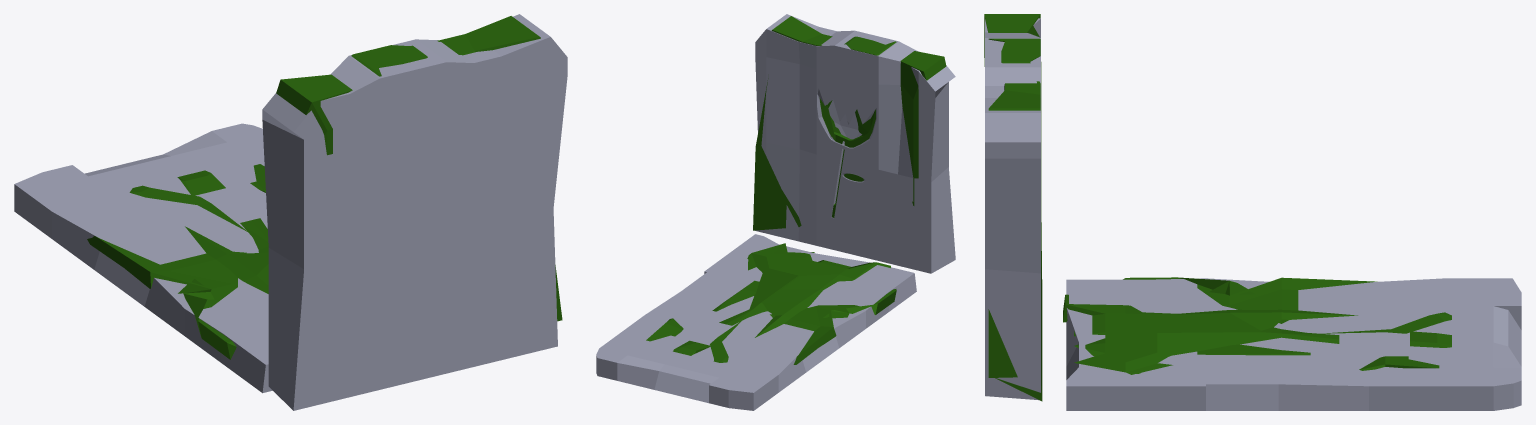
File: flower_grave.glb
The picture shows the model from 3 angles, left to right: view 1: azimuth 30°, elevation 25°; view 2: azimuth 150°, elevation 25°; view 3: azimuth 270°, elevation 25°; orthographic projection. The views are drawn at different scales.
Visible parts, largest first — view 1: Cube, Cube.001, Cube.002, Cube.003; view 2: Cube, Cube.001, Cube.002, Cube.003; view 3: Cube.001, Cube, Cube.002, Cube.003.
Part boxes in pixels (bbox=[...]): Cube: bbox=[262, 14, 567, 410]; Cube.001: bbox=[14, 123, 272, 393]; Cube.002: bbox=[87, 164, 268, 359]; Cube.003: bbox=[276, 16, 562, 321]; Cube: bbox=[755, 14, 955, 273]; Cube.001: bbox=[596, 234, 916, 410]; Cube.002: bbox=[646, 243, 896, 364]; Cube.003: bbox=[753, 16, 946, 230]; Cube.001: bbox=[1066, 278, 1521, 410]; Cube: bbox=[985, 18, 1040, 400]; Cube.002: bbox=[1063, 277, 1451, 374]; Cube.003: bbox=[984, 14, 1042, 401].
Size of the model in its own units: 1.12 by 1.28 by 2.1.
